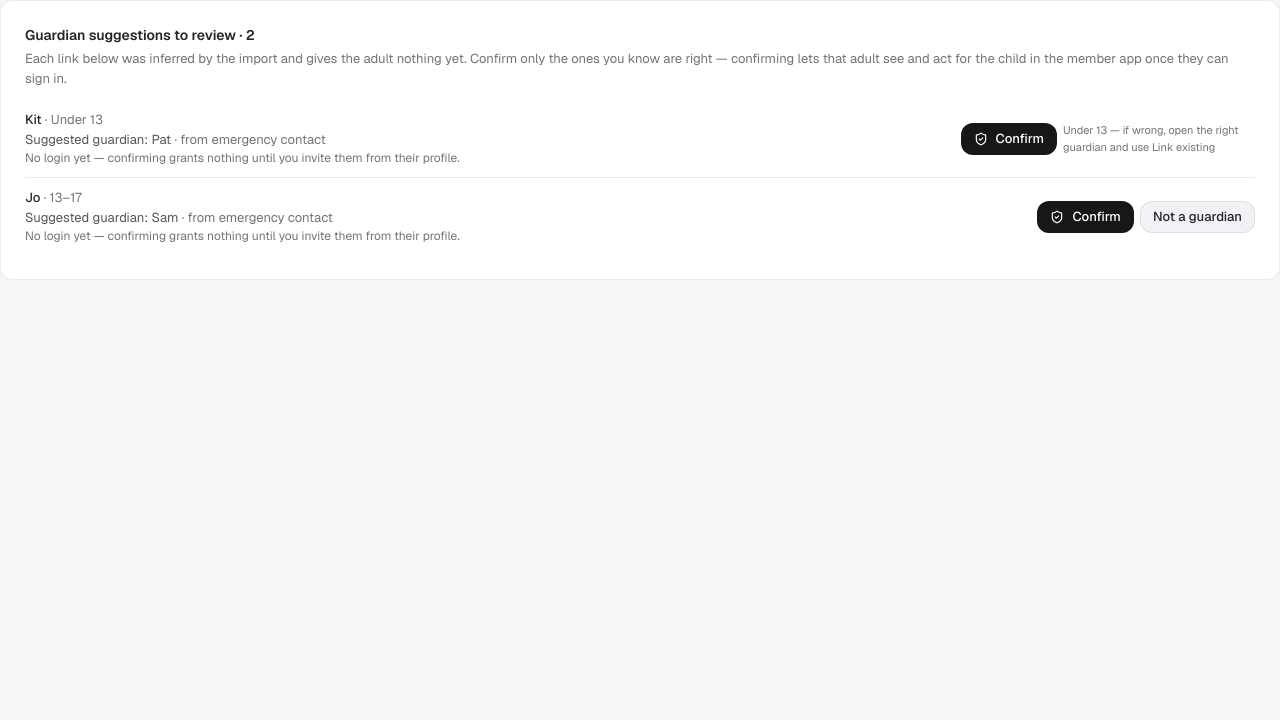
Test: GuardianReviewQueue › an under-13 offers no reject; a 13–17 rejects through a confirmation dialog
Expected: the link "Kit" is shown, 25,111 -> 42,128
Expected: the text "Under 13 — if wrong, open the right guardian and use Link existing" is shown, 1063,122 -> 1255,155
Click the button with aria-label "Sam is not Jo's guardian": (1197, 216) 1140,200 -> 1255,232
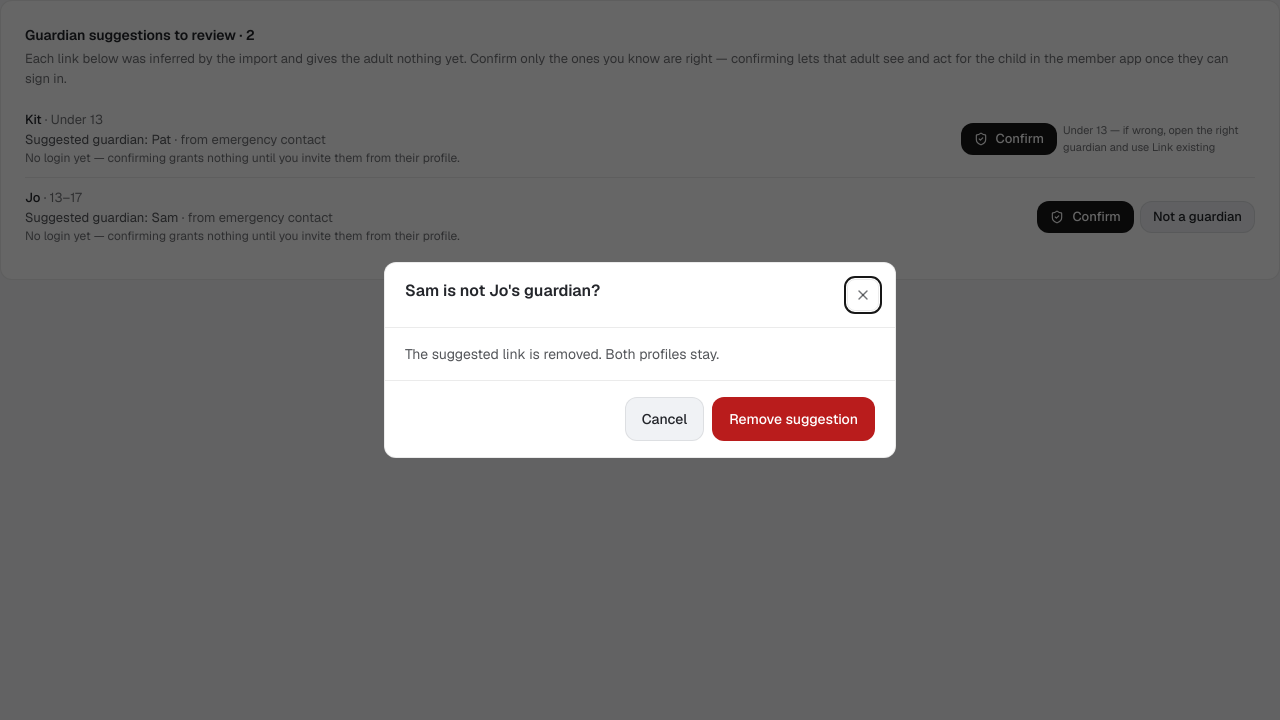
Click the button "Remove suggestion": (794, 419) 712,397 -> 875,441
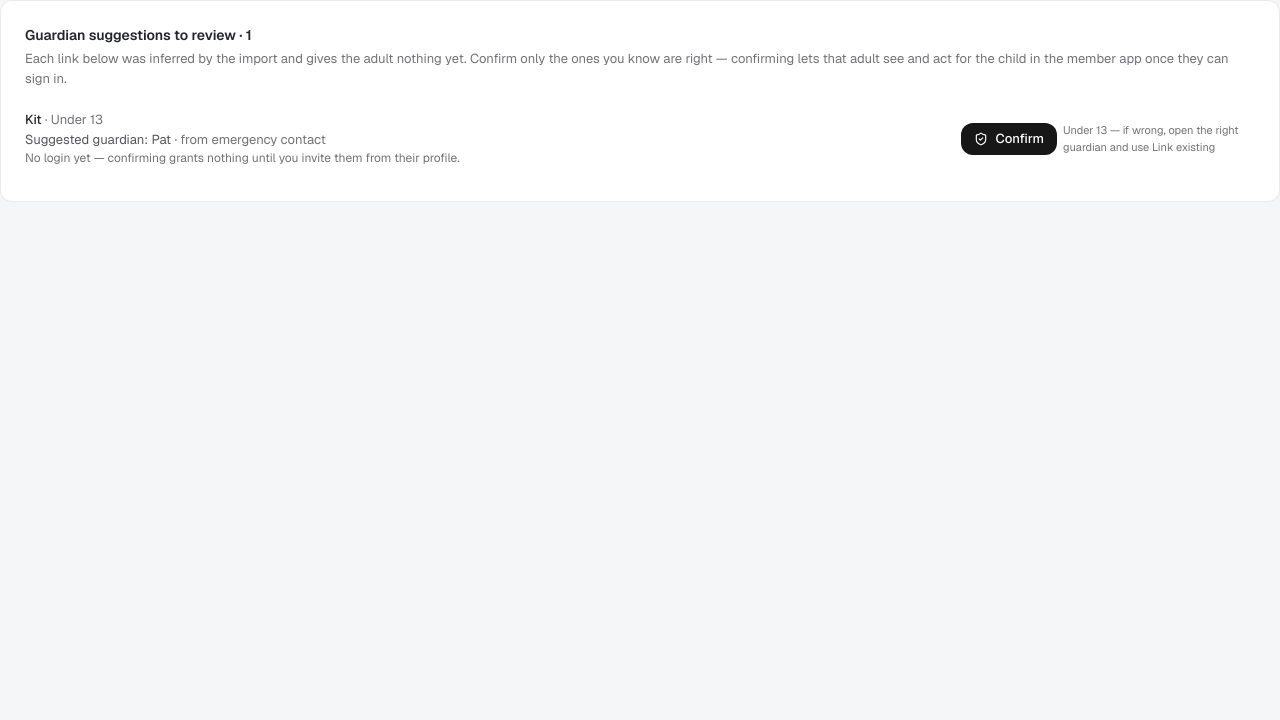
Expected: the link "Jo" is gone
